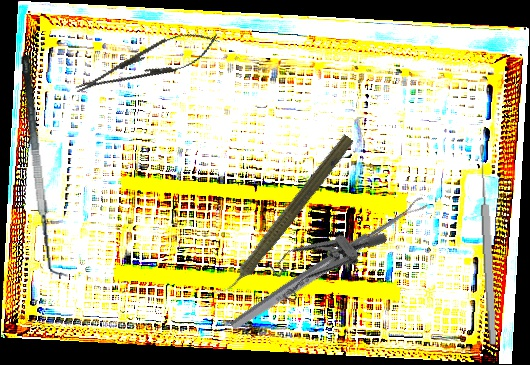Handpiece: (210, 128, 358, 307)
Needle Holder: (68, 20, 225, 107)
Spatula Surgical: (18, 52, 69, 280)
Speculum: (257, 197, 390, 315)
Surgical Spoon: (227, 195, 430, 333), (476, 143, 499, 346)
